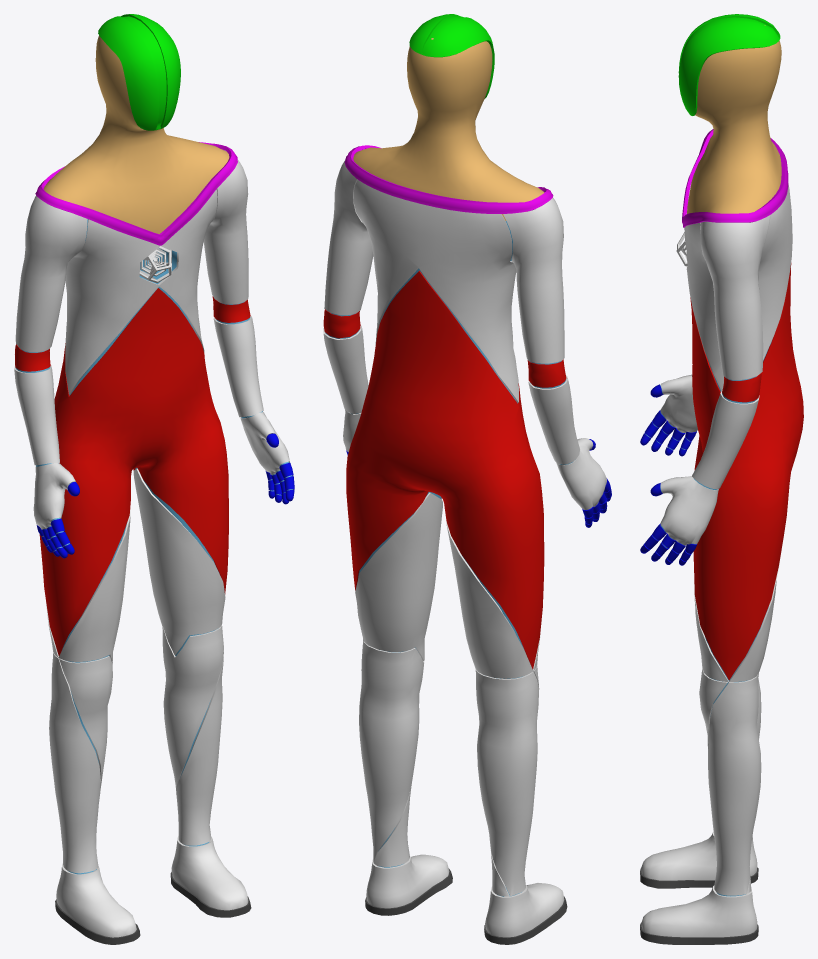
File: Robo.gltf
3 renders of one model, left to right at view 1: azimuth 30°, elevation 25°; view 2: azimuth 150°, elevation 25°; view 3: azimuth 270°, elevation 25°, orthographic. The views are drawn at different scales.
Visible parts, largest first — view 1: Bot_Body_Main; view 2: Bot_Body_Main; view 3: Bot_Body_Main.
Part boxes in pixels (x1,y1,x2,y2): Bot_Body_Main: (14, 14, 294, 944); Bot_Body_Main: (323, 14, 611, 944); Bot_Body_Main: (640, 14, 803, 944).
Size of the model in its own units: 0.5083 by 1.73 by 0.2889.
